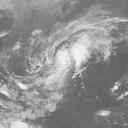cyclone: (29, 23, 100, 87)
